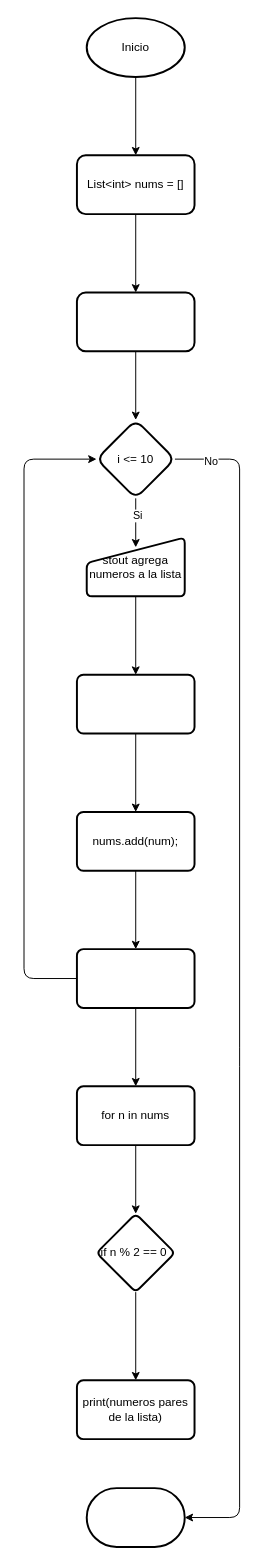
Image size: 265x1564. Some labels were removed from this diagram. The shapes that lost their labels are listed below. From the top down, each one's box as (x1, y1, x2, y2) in pixels, then its label:
(75, 291, 195, 352): i=0
(75, 673, 195, 734): int num = stin
(75, 948, 195, 1008): i = i + 1
(85, 1487, 185, 1547): Fin
